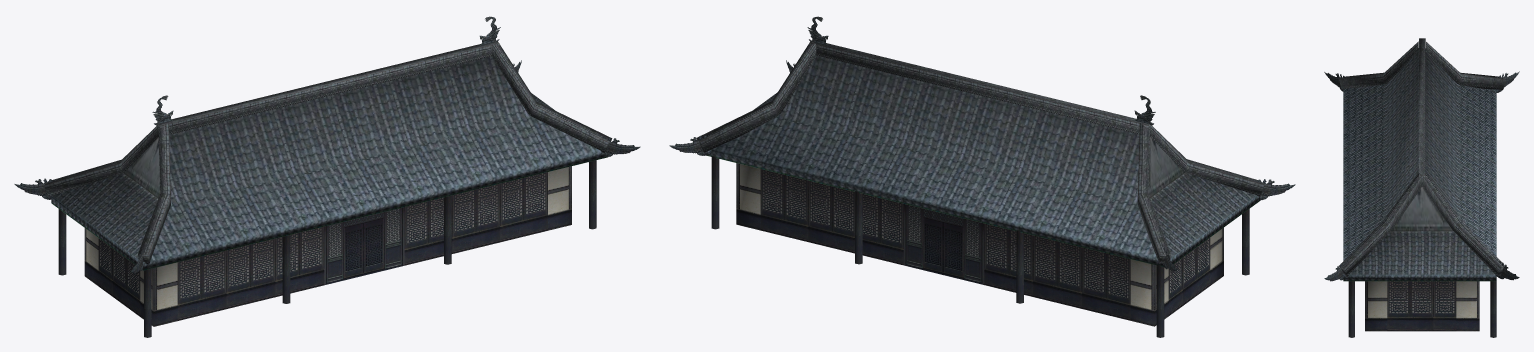
File: cj_mili_horse01.glb
3 renders of one model, left to right at view 1: azimuth 30°, elevation 25°; view 2: azimuth 150°, elevation 25°; view 3: azimuth 270°, elevation 25°, orthographic. The views are drawn at different scales.
Parts seen in each view (by area): view 1: CJ_mili_horse_roof, CJ_mili_horse_gidung, CJ_mili_horse_wall, CJ_mili_horse_deco; view 2: CJ_mili_horse_roof, CJ_mili_horse_gidung, CJ_mili_horse_wall, CJ_mili_horse_deco; view 3: CJ_mili_horse_roof, CJ_mili_horse_gidung, CJ_mili_horse_wall, CJ_mili_horse_deco.
Boxes of the visible parts, x1,y1,x2,y2 form: CJ_mili_horse_roof: (44,41,612,270); CJ_mili_horse_gidung: (58,160,596,337); CJ_mili_horse_wall: (84,166,571,326); CJ_mili_horse_deco: (14,16,640,273); CJ_mili_horse_roof: (696,41,1264,267); CJ_mili_horse_gidung: (711,156,1249,337); CJ_mili_horse_wall: (736,163,1223,326); CJ_mili_horse_deco: (669,16,1295,271); CJ_mili_horse_roof: (1339,38,1505,281); CJ_mili_horse_gidung: (1348,281,1496,337); CJ_mili_horse_wall: (1365,281,1479,331); CJ_mili_horse_deco: (1324,71,1519,281).
Size of the model in its own units: 36.79 by 13.42 by 14.7.
Materials: 4 (4 with a texture image).
